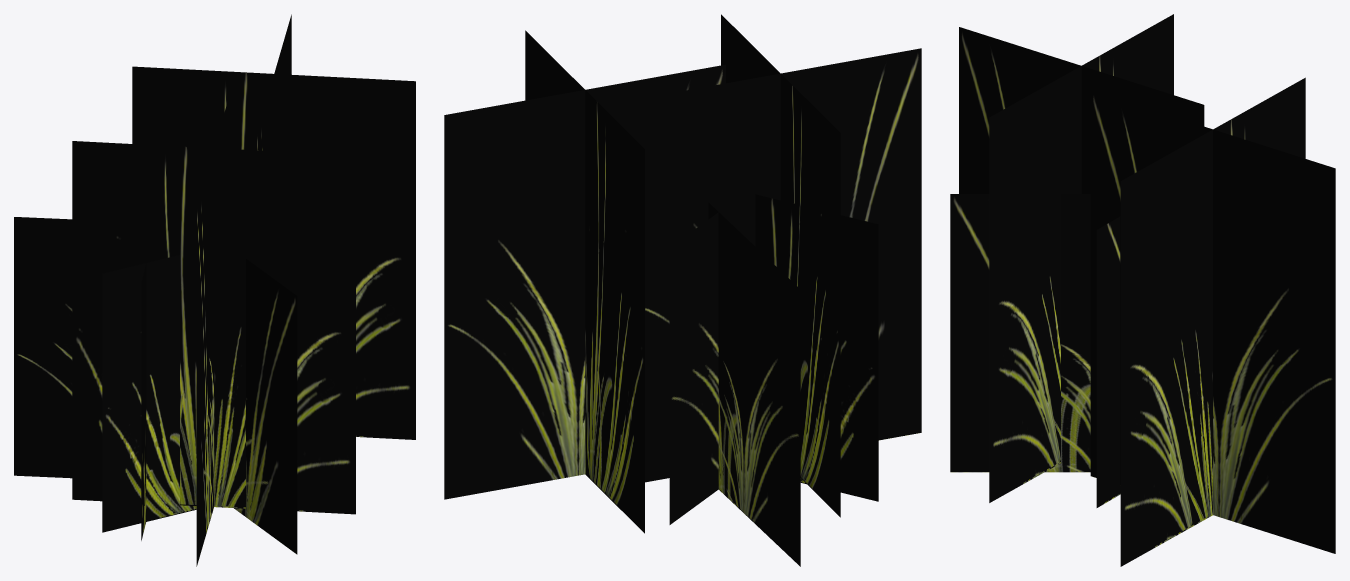
Rendered from grass_patch4.fbx.
The picture shows the model from 3 angles, left to right: view 1: azimuth 30°, elevation 25°; view 2: azimuth 150°, elevation 25°; view 3: azimuth 270°, elevation 25°; orthographic projection. The views are drawn at different scales.
Parts seen in each view (by area): view 1: Plane.001; view 2: Plane.001; view 3: Plane.001.
Part boxes in pixels (box(x1,y1,x2,y2)): Plane.001: box(14, 14, 415, 566); Plane.001: box(444, 14, 921, 566); Plane.001: box(950, 14, 1335, 566).
Size of the model in its own units: 49.8 by 53.05 by 46.96.
